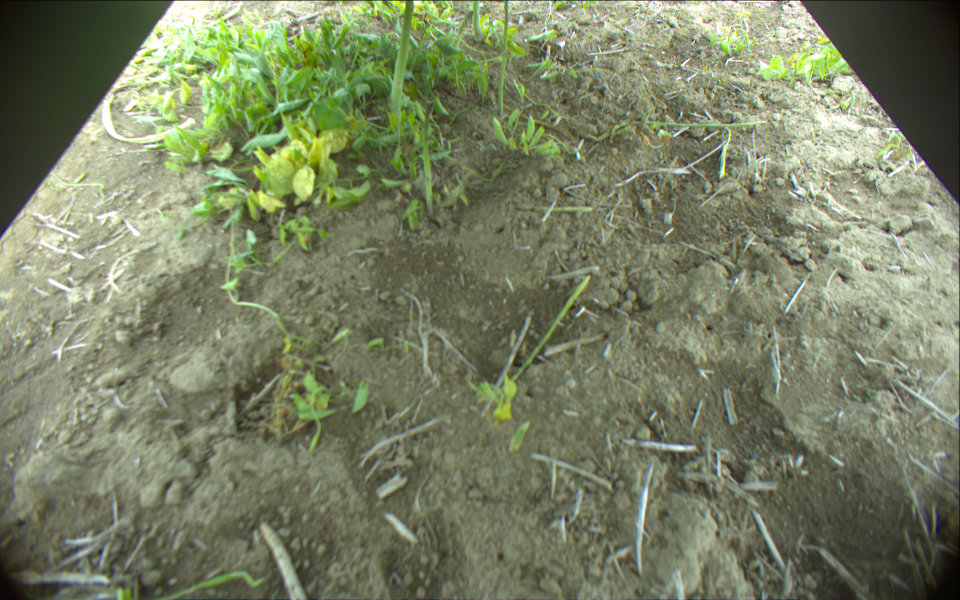aspa: (501, 274, 597, 395), (392, 1, 413, 130), (421, 103, 435, 220), (499, 1, 512, 120), (619, 122, 765, 129), (452, 9, 472, 50), (472, 1, 485, 42)
